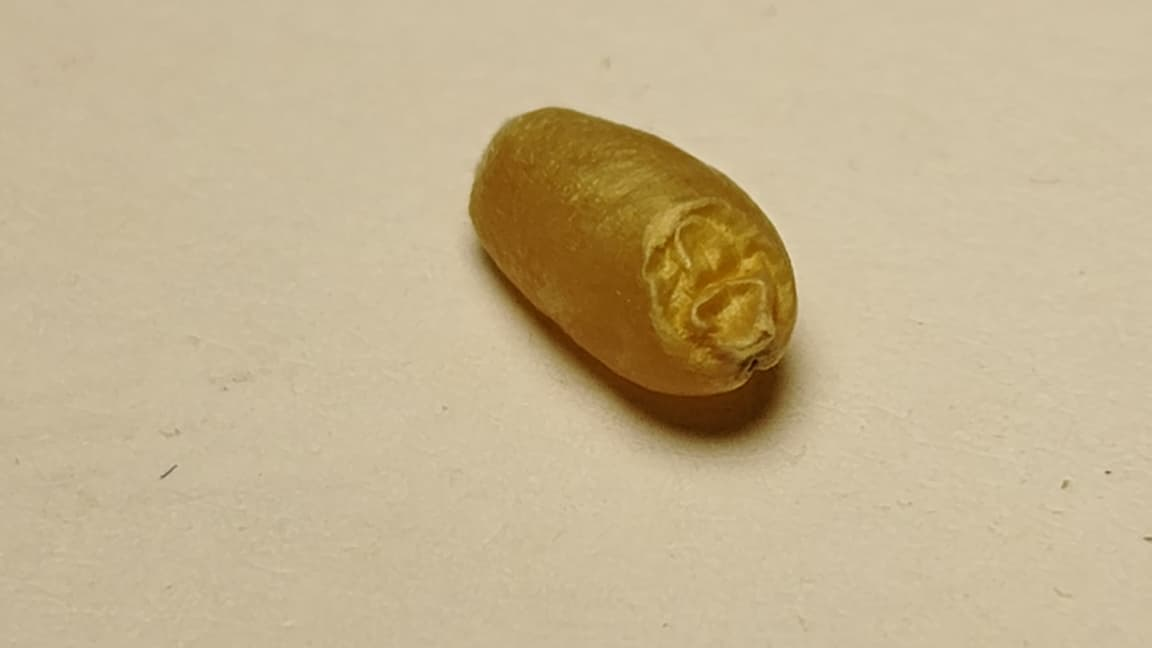healthy: (468, 105, 796, 397)
